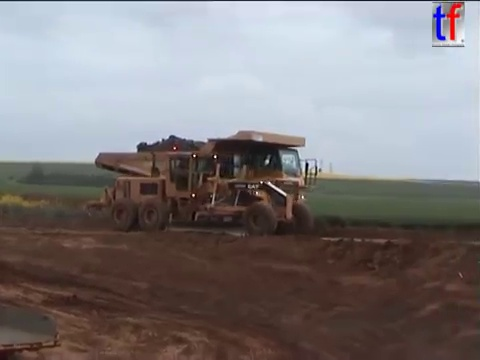motor grader: (82, 149, 315, 236)
truck: (93, 128, 322, 230)
